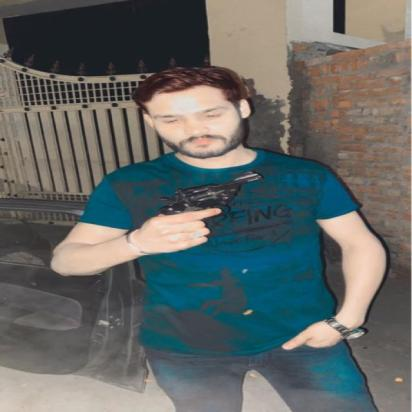Gun: (153, 168, 267, 246)
